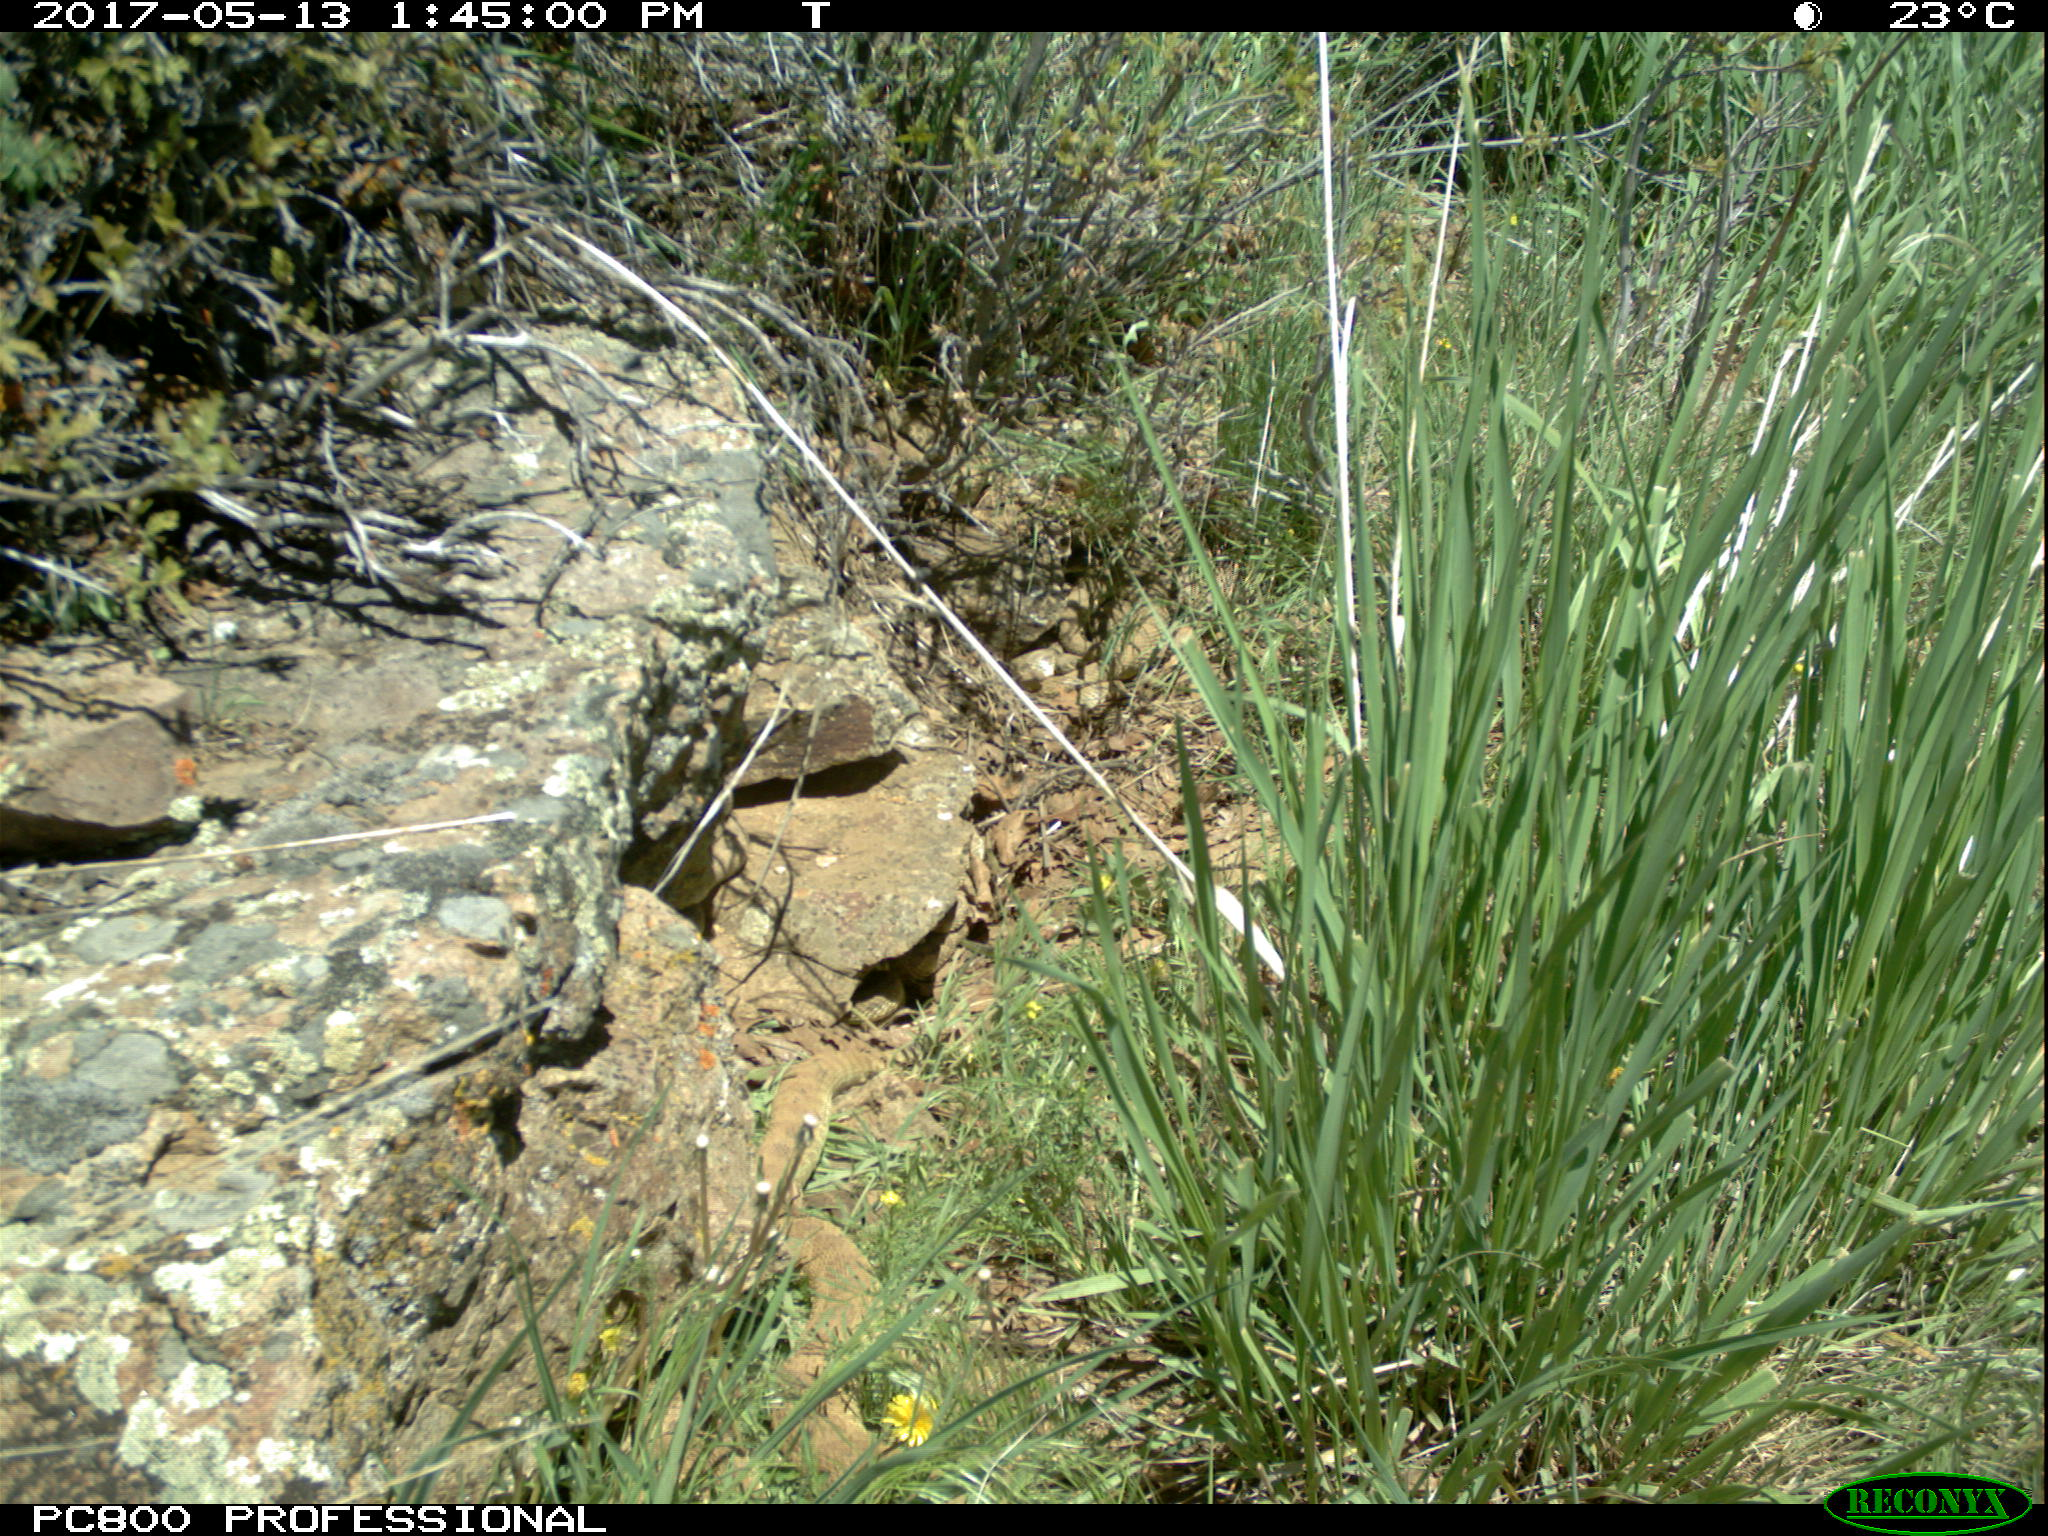snake: (747, 1029, 880, 1501), (1039, 566, 1171, 678), (843, 978, 921, 1026)
